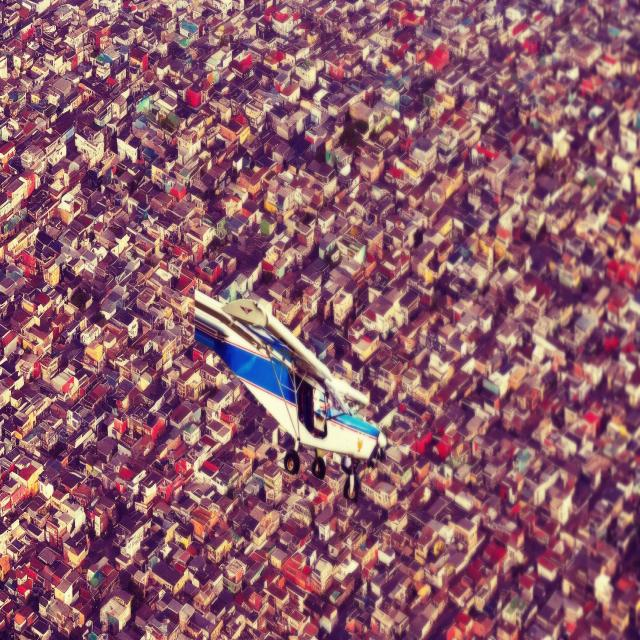airplane: (192, 281, 394, 501)
